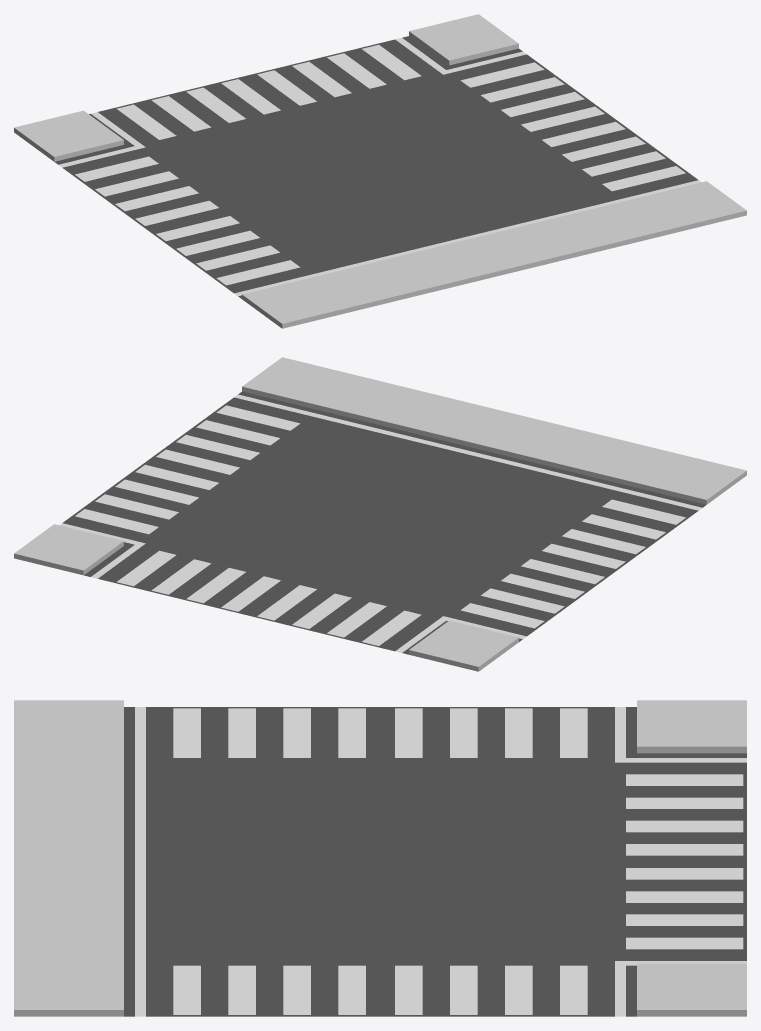
File: SPW_Urban_Road 2way_T_Intersection_01.gltf
The picture shows the model from 3 angles, top to bottom: view 1: azimuth 30°, elevation 25°; view 2: azimuth 150°, elevation 25°; view 3: azimuth 270°, elevation 25°; orthographic projection. The views are drawn at different scales.
Parts seen in each view (by area): view 1: SPW_Urban_Road_2way_T_Intersection_01; view 2: SPW_Urban_Road_2way_T_Intersection_01; view 3: SPW_Urban_Road_2way_T_Intersection_01.
Boxes of the visible parts, x1,y1,x2,y2 form: SPW_Urban_Road_2way_T_Intersection_01: [14, 14, 746, 328]; SPW_Urban_Road_2way_T_Intersection_01: [14, 357, 746, 671]; SPW_Urban_Road_2way_T_Intersection_01: [14, 700, 746, 1016].
Size of the model in its own units: 787 by 7.87 by 787.
1 material, 1 textured.
